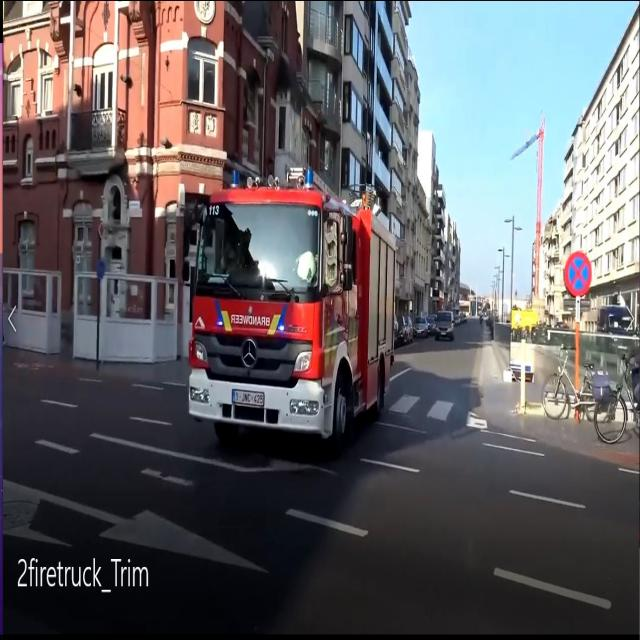emergency: (180, 152, 401, 466)
